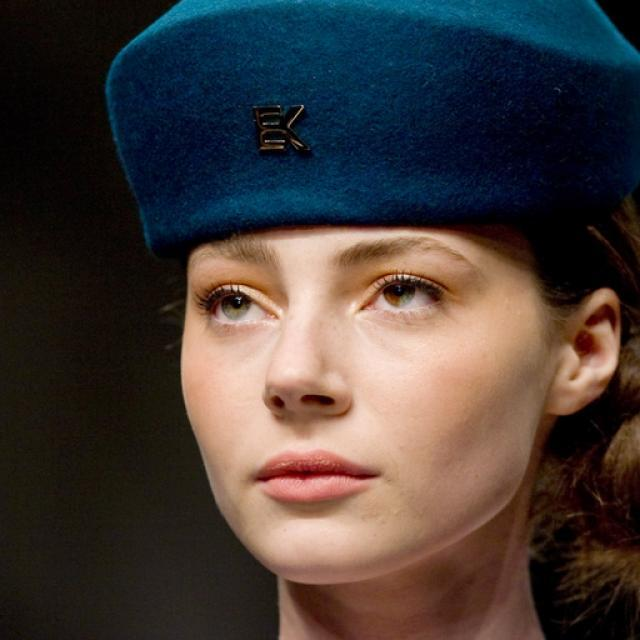neutral: (180, 218, 551, 586)
